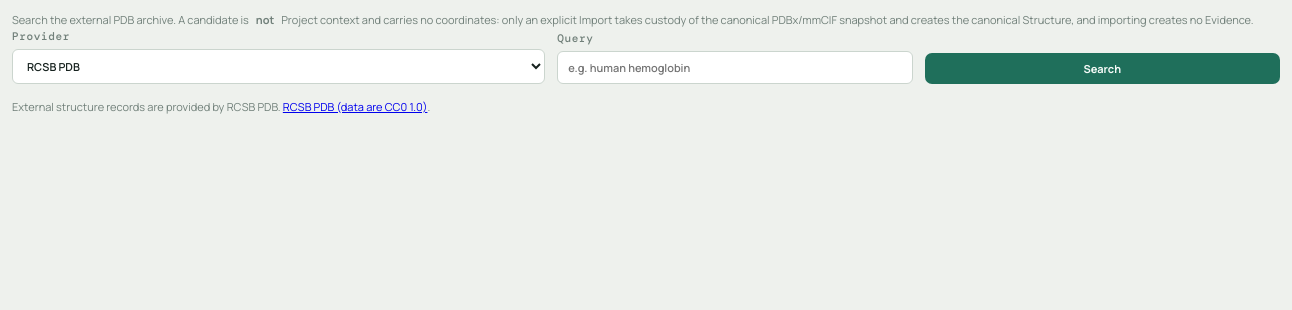
StructureDiscoveryView › labels external candidates as not yet in Project and shows the durable identity
Type "hemoglobin" into the field named "Structure search query". click: (735, 67)
box: [557, 51, 912, 84]
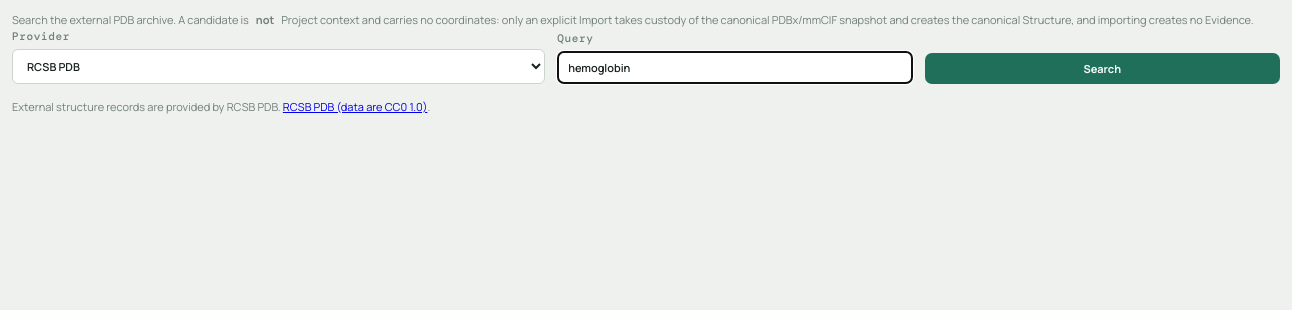
Click the button "Search". click: (1102, 68)
box: [925, 53, 1280, 84]
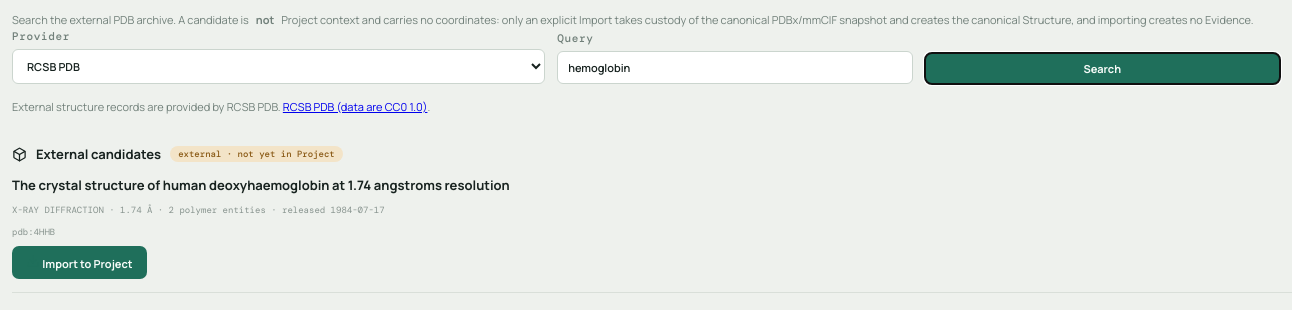
Check: the text "External candidates" is shown, box [36, 145, 161, 163]
Check: the text "external · not yet in Project" is shown, box [170, 146, 343, 162]
Check: the text "pdb:4HHB" is shown, box [12, 226, 55, 238]
